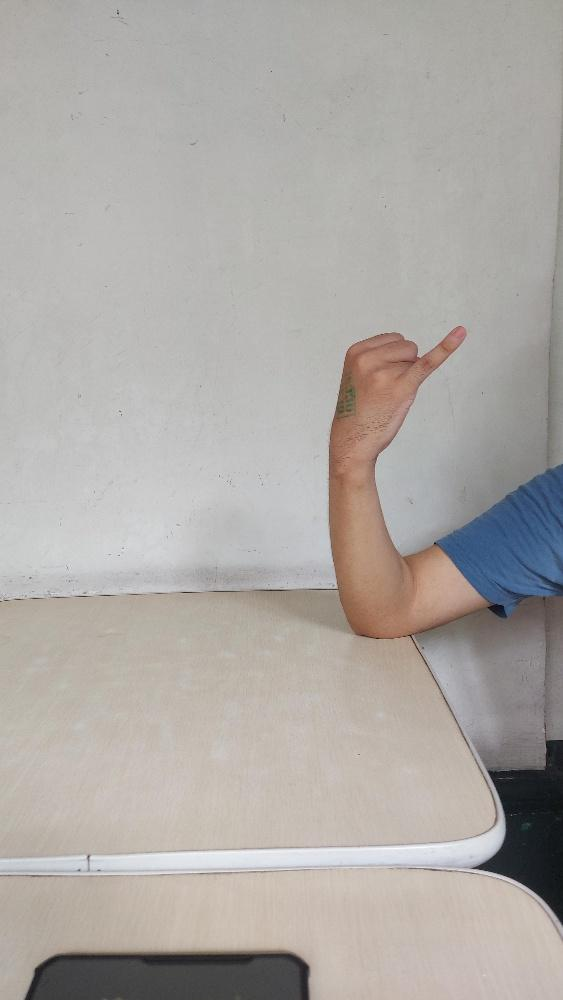j: (329, 324, 466, 457)
